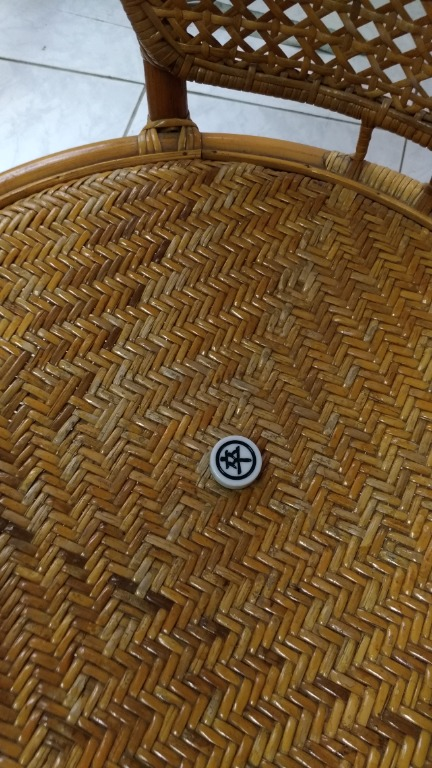b-pawn: (200, 425, 277, 494)
